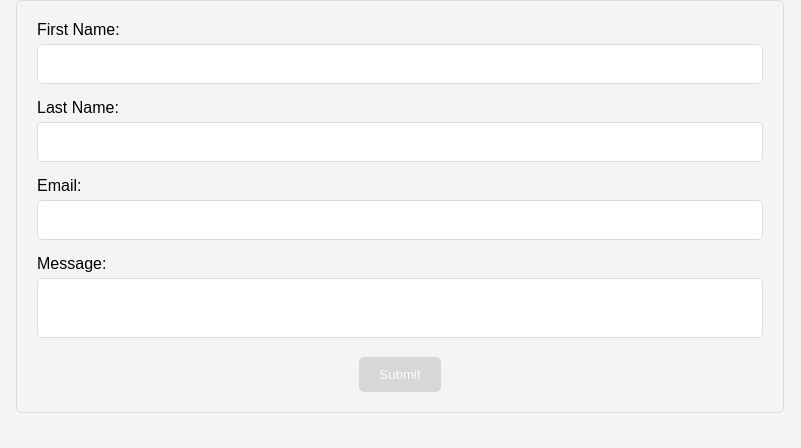
Test: MessageForm › should validate email format
The width and height of the screenshot is (801, 448).
Type "invalidEmail" into the field labelled "Email:". click: (400, 220)
box: [37,200,763,240]
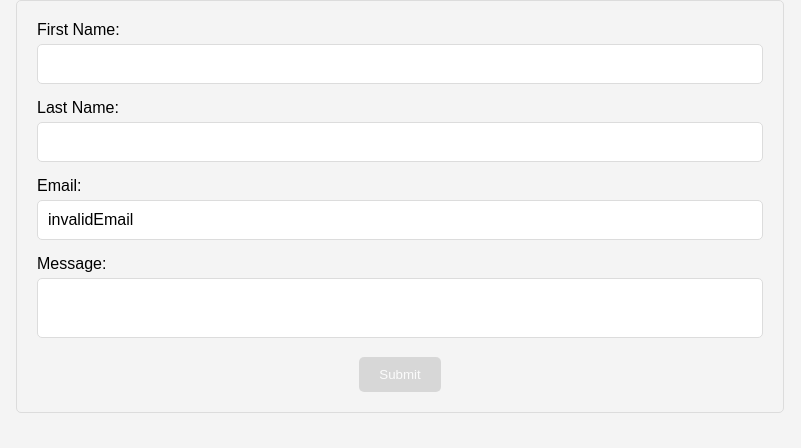
Leave the field labelled "Email:", box [37,200,763,240]
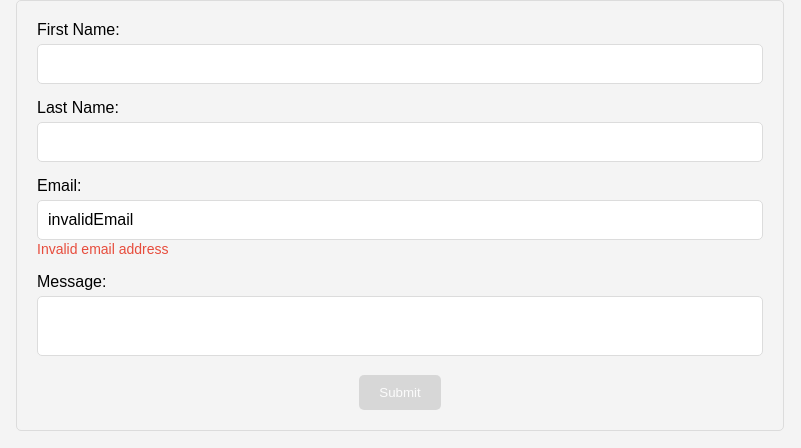
Now the text "Invalid email address" is shown, box [37,241,168,257]
